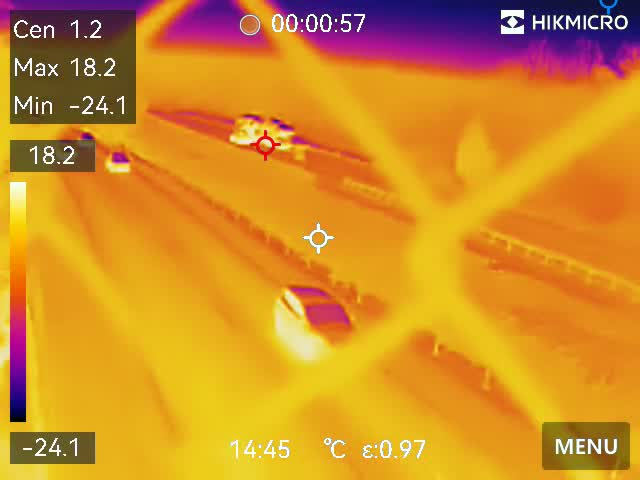heavyTruck: (226, 106, 305, 150)
largeCar: (272, 278, 365, 374)
vehicle: (102, 149, 132, 176), (79, 131, 96, 150)
